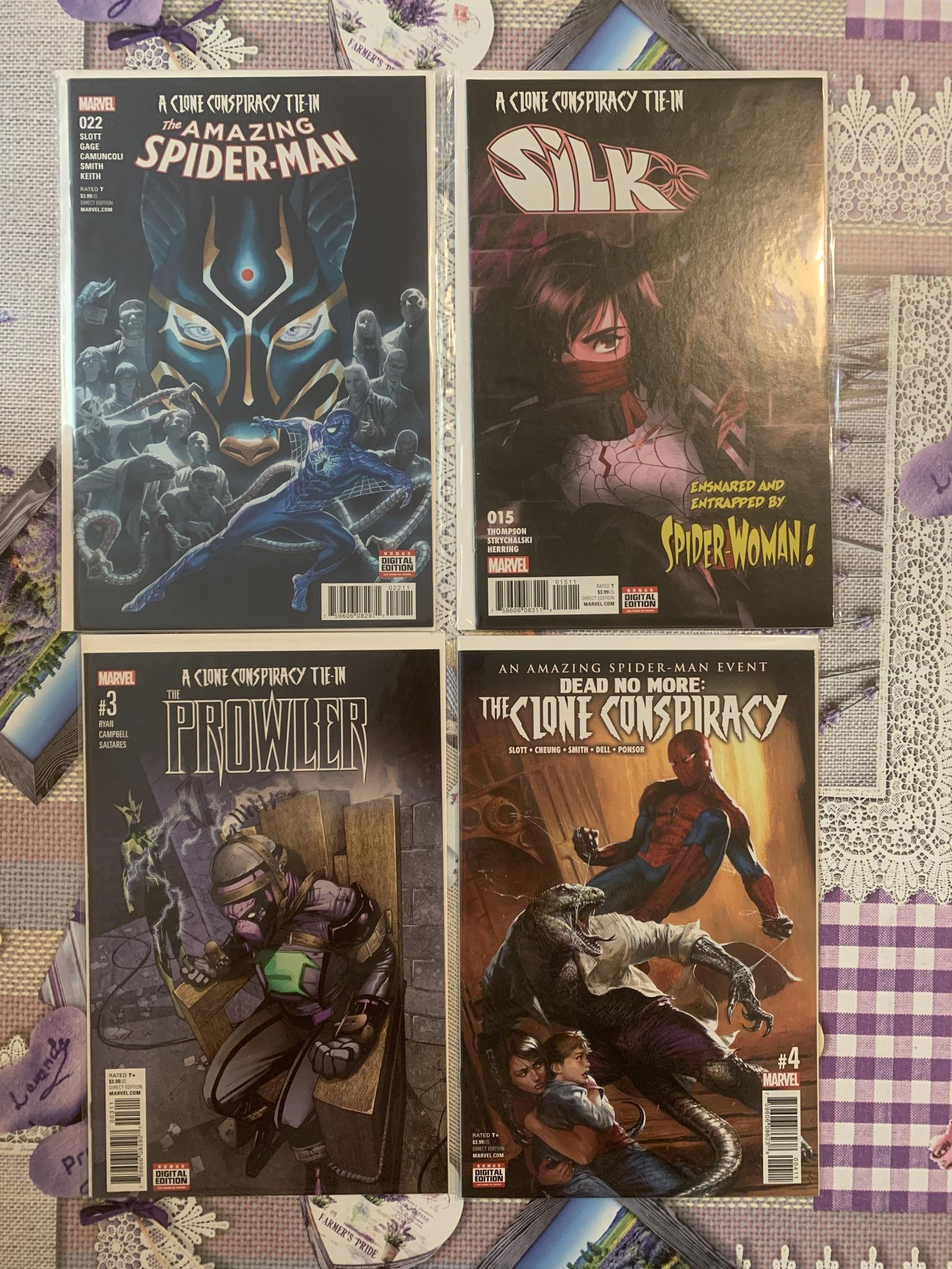comic: (456, 70, 832, 632), (60, 72, 434, 630), (84, 631, 448, 1197), (459, 635, 816, 1197)
